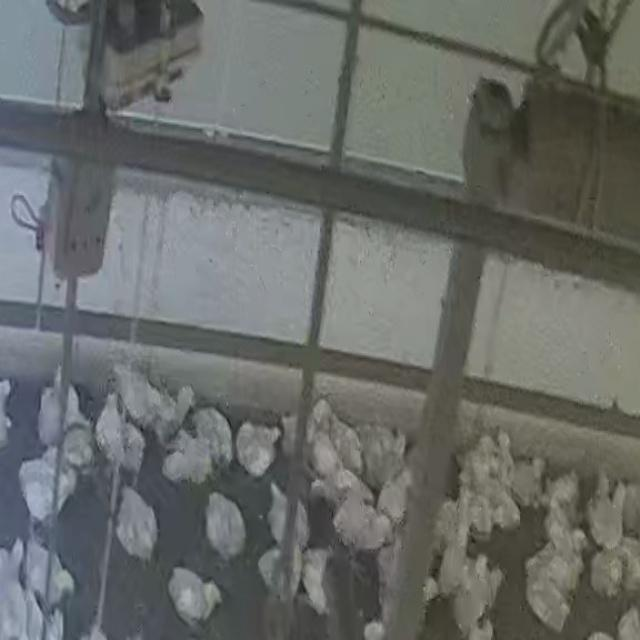chicken: (461, 552, 504, 632), (22, 452, 70, 520), (521, 563, 567, 629), (120, 484, 161, 556), (22, 542, 71, 599), (175, 572, 223, 626), (204, 487, 243, 553), (338, 494, 391, 542), (236, 420, 282, 472), (272, 484, 309, 547), (592, 468, 620, 545), (199, 410, 237, 466), (301, 429, 348, 473), (512, 456, 550, 502), (463, 434, 496, 484), (335, 418, 366, 471), (102, 392, 126, 457), (494, 434, 520, 488)
